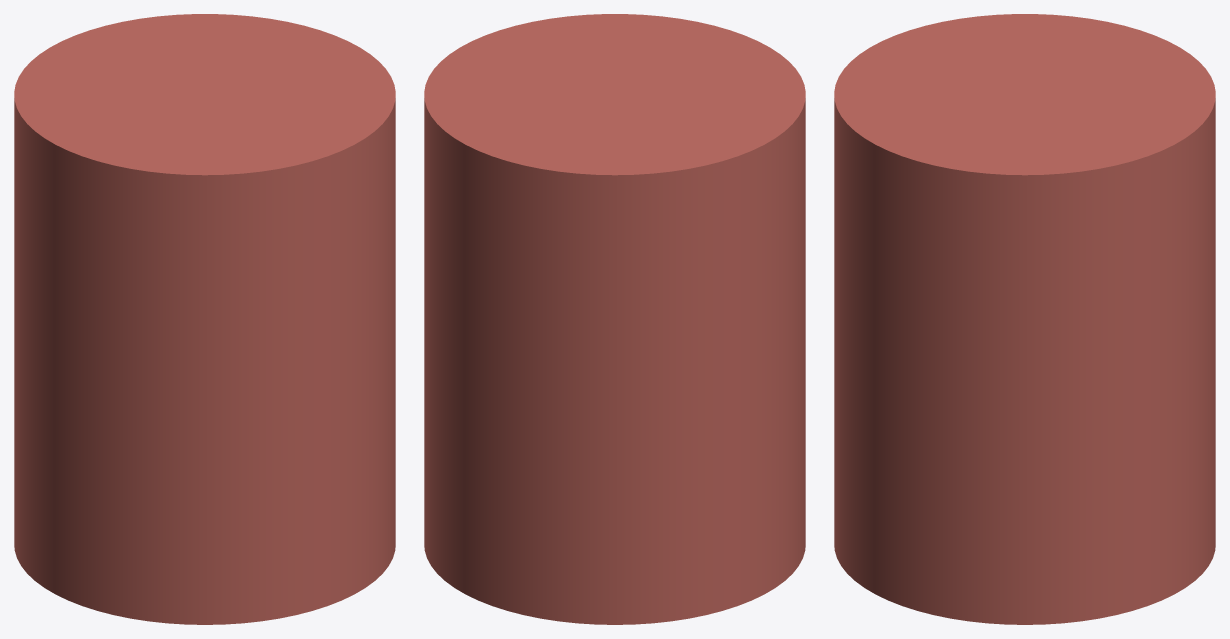
Rendered from step_02.glb.
3 views of the same model, side by side, from view 1: azimuth 30°, elevation 25°; view 2: azimuth 150°, elevation 25°; view 3: azimuth 270°, elevation 25° (orthographic).
Visible parts, largest first — view 1: part__topmark, can (red); view 2: part__topmark, can (red); view 3: part__topmark, can (red).
Boxes of the visible parts, x1,y1,x2,y2 form: part__topmark, can (red): [14, 14, 395, 624]; part__topmark, can (red): [424, 14, 805, 624]; part__topmark, can (red): [834, 14, 1215, 624].
Bounding box in the file's own units: 200 × 260 × 200.
